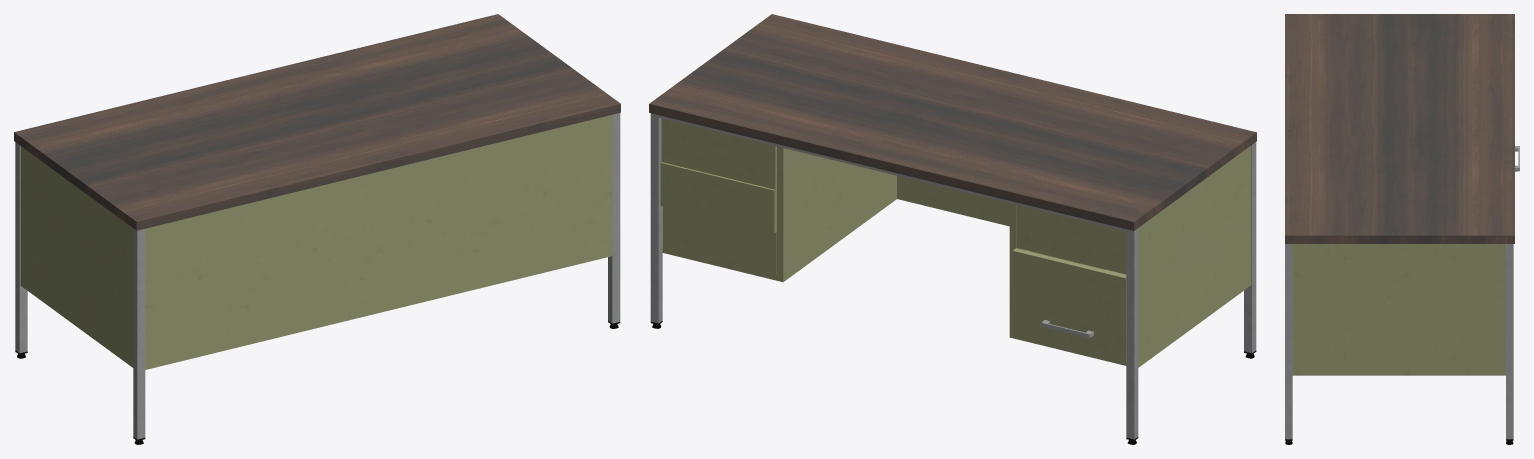
The model's file is Desk_01_wide.dae.
The picture shows the model from 3 angles, left to right: view 1: azimuth 30°, elevation 25°; view 2: azimuth 150°, elevation 25°; view 3: azimuth 270°, elevation 25°; orthographic projection. The views are drawn at different scales.
Parts seen in each view (by area): view 1: Desk_01; view 2: Desk_01, D_1_Drawer_5, D_1_Drawer_2, D_1_Drawer_1, D_1_Drawer_4, D_1_Drawer_3; view 3: Desk_01.
Boxes of the visible parts, x1=… form: Desk_01: x1=14, y1=14, x2=620, y2=444; Desk_01: x1=649, y1=14, x2=1256, y2=444; D_1_Drawer_5: x1=1012, y1=248, x2=1126, y2=363; D_1_Drawer_2: x1=660, y1=162, x2=776, y2=233; D_1_Drawer_1: x1=661, y1=118, x2=776, y2=189; D_1_Drawer_4: x1=1016, y1=205, x2=1126, y2=274; D_1_Drawer_3: x1=663, y1=206, x2=776, y2=274; Desk_01: x1=1285, y1=14, x2=1514, y2=444.
Size of the model in its own units: 1.71 by 0.7657 by 0.755.
Materials: 4 (4 with a texture image).
